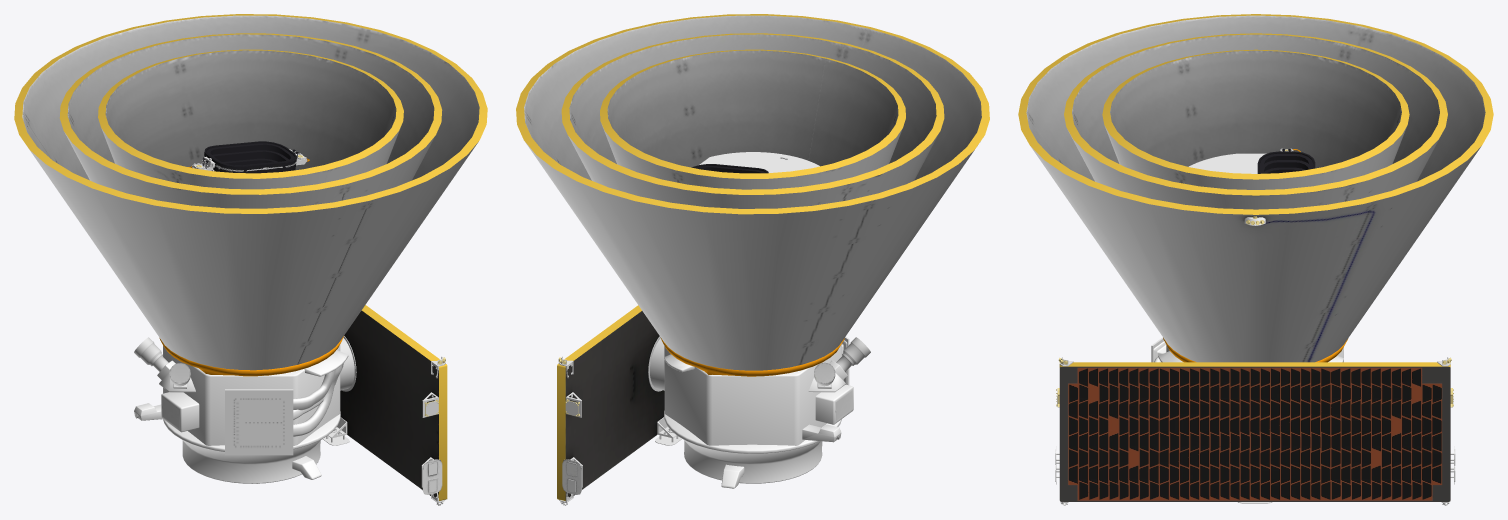
File: spherex.glb
The picture shows the model from 3 angles, left to right: view 1: azimuth 30°, elevation 25°; view 2: azimuth 150°, elevation 25°; view 3: azimuth 270°, elevation 25°; orthographic projection.
Parts seen in each view (by area): view 1: collars, collars_trim, collar.011, Cylinder.026, collar.002, Cube.036, SPHEREx_Observatory_Assy_02-22-2022.065, Cube.023, collars.001, collar.003, Cube.032, collar.001 (+5 smaller); view 2: collars, Cylinder.026, collars_trim, collar.011, collar.001, Cube.036, collars.001, Cube.032, Cylinder.027, Cylinder.047, Cube.031; view 3: collars, array_front, collars_trim, Cube.036, collar.001, Cube.023, Cube.020.
Part boxes in pixels (bbox=[...]): collars: bbox=[22, 15, 479, 370]; collars_trim: bbox=[14, 14, 487, 213]; collar.011: bbox=[340, 310, 442, 497]; Cylinder.026: bbox=[163, 344, 340, 483]; collar.002: bbox=[225, 390, 293, 455]; Cube.036: bbox=[361, 305, 447, 500]; SPHEREx_Observatory_Assy_02-22-2022.065: bbox=[293, 363, 343, 436]; Cube.023: bbox=[207, 142, 294, 165]; collars.001: bbox=[159, 336, 343, 376]; collar.003: bbox=[203, 141, 297, 173]; Cube.032: bbox=[161, 392, 199, 432]; collar.001: bbox=[135, 363, 293, 428]; collars: bbox=[524, 15, 981, 370]; Cylinder.026: bbox=[664, 344, 841, 483]; collars_trim: bbox=[516, 14, 989, 214]; collar.011: bbox=[562, 311, 667, 500]; collar.001: bbox=[699, 152, 852, 439]; Cube.036: bbox=[557, 305, 641, 500]; collars.001: bbox=[660, 337, 844, 376]; Cube.032: bbox=[815, 384, 853, 424]; Cylinder.027: bbox=[648, 336, 664, 391]; Cylinder.047: bbox=[836, 337, 870, 371]; Cube.031: bbox=[802, 424, 841, 442]; collars: bbox=[1026, 15, 1485, 362]; array_front: bbox=[1059, 366, 1450, 501]; collars_trim: bbox=[1018, 14, 1493, 214]; Cube.036: bbox=[1059, 362, 1450, 367]; collar.001: bbox=[1151, 153, 1266, 362]; Cube.023: bbox=[1260, 152, 1313, 173]; Cube.020: bbox=[1260, 153, 1313, 173].
Bounding box in the file's own units: 3.29 × 2.75 × 3.25.
Materials: 15 (3 with a texture image).
